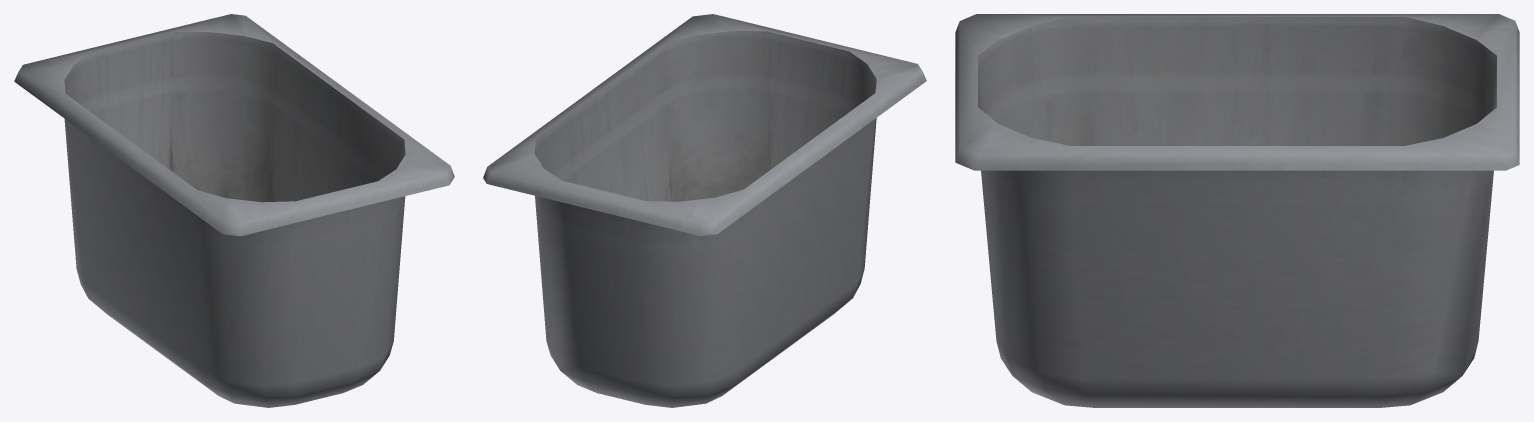
The model's file is SM_Hotel_Pan150_1_4_01.glb.
The picture shows the model from 3 angles, left to right: view 1: azimuth 30°, elevation 25°; view 2: azimuth 150°, elevation 25°; view 3: azimuth 270°, elevation 25°; orthographic projection. The views are drawn at different scales.
Visible parts, largest first — view 1: SM_Hotel_Pan150_1_4_01; view 2: SM_Hotel_Pan150_1_4_01; view 3: SM_Hotel_Pan150_1_4_01.
Boxes of the visible parts, <box> form: SM_Hotel_Pan150_1_4_01: <box>14,14,454,407</box>; SM_Hotel_Pan150_1_4_01: <box>483,14,926,407</box>; SM_Hotel_Pan150_1_4_01: <box>955,14,1519,407</box>.
Bounding box in the file's own units: 0.1611 × 0.1492 × 0.2652.
1 material, 1 textured.
